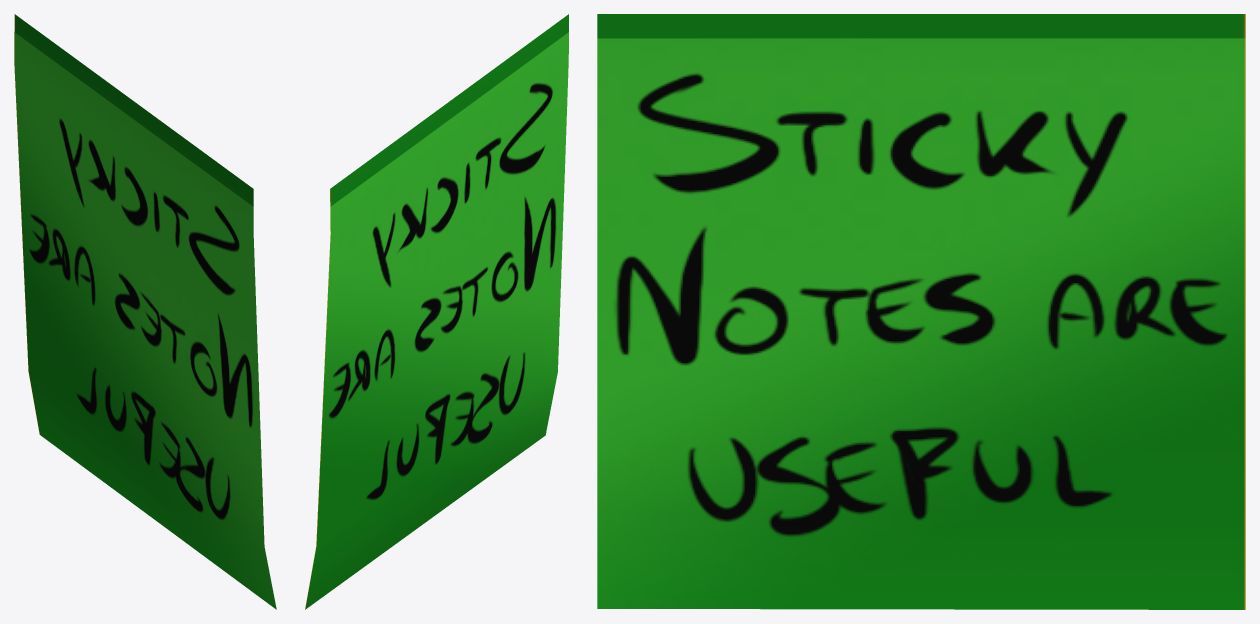
Rendered from Post-it_6.fbx.
3 views of the same model, side by side, from view 1: azimuth 30°, elevation 25°; view 2: azimuth 150°, elevation 25°; view 3: azimuth 270°, elevation 25° (orthographic). The views are drawn at different scales.
Parts seen in each view (by area): view 1: pPlane12; view 2: pPlane12; view 3: pPlane12.
Part boxes in pixels (box(x1,y1,x2,y2)): pPlane12: box(14, 14, 276, 609); pPlane12: box(305, 14, 568, 609); pPlane12: box(597, 14, 1245, 609).
Size of the model in its own units: 0.6166 by 9.86 by 10.
